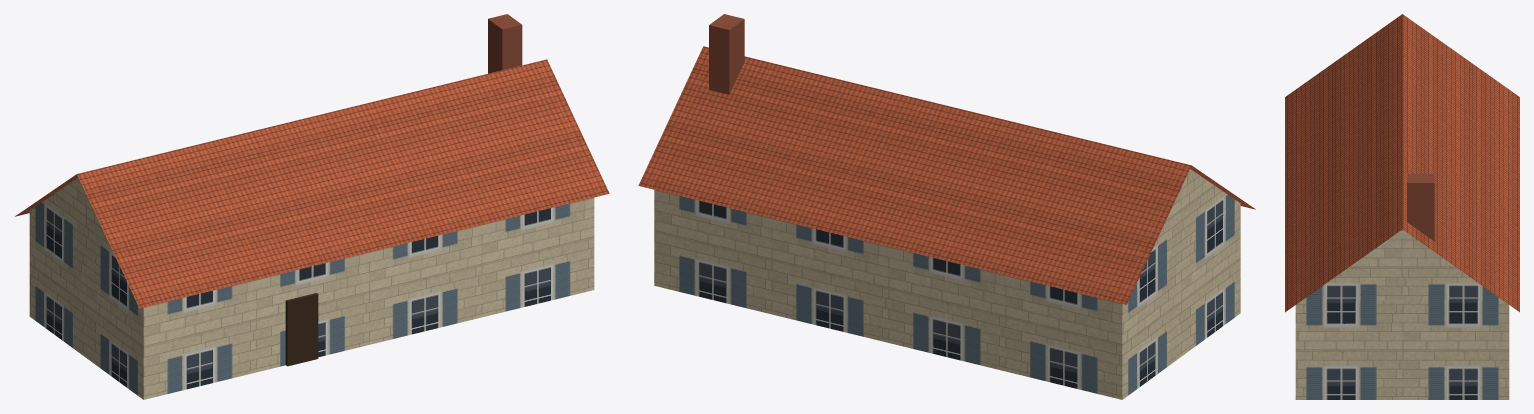
File: fazenda.glb
3 views of the same model, side by side, from view 1: azimuth 30°, elevation 25°; view 2: azimuth 150°, elevation 25°; view 3: azimuth 270°, elevation 25° (orthographic). The views are drawn at different scales.
Visible parts, largest first — view 1: Casa.002; view 2: Casa.002; view 3: Casa.002.
Part boxes in pixels (bbox=[...]): Casa.002: bbox=[15, 14, 609, 399]; Casa.002: bbox=[638, 14, 1255, 399]; Casa.002: bbox=[1285, 14, 1519, 399].
Bounding box in the file's own units: 16.7 × 7.63 × 7.7.
4 materials, 2 textured.
